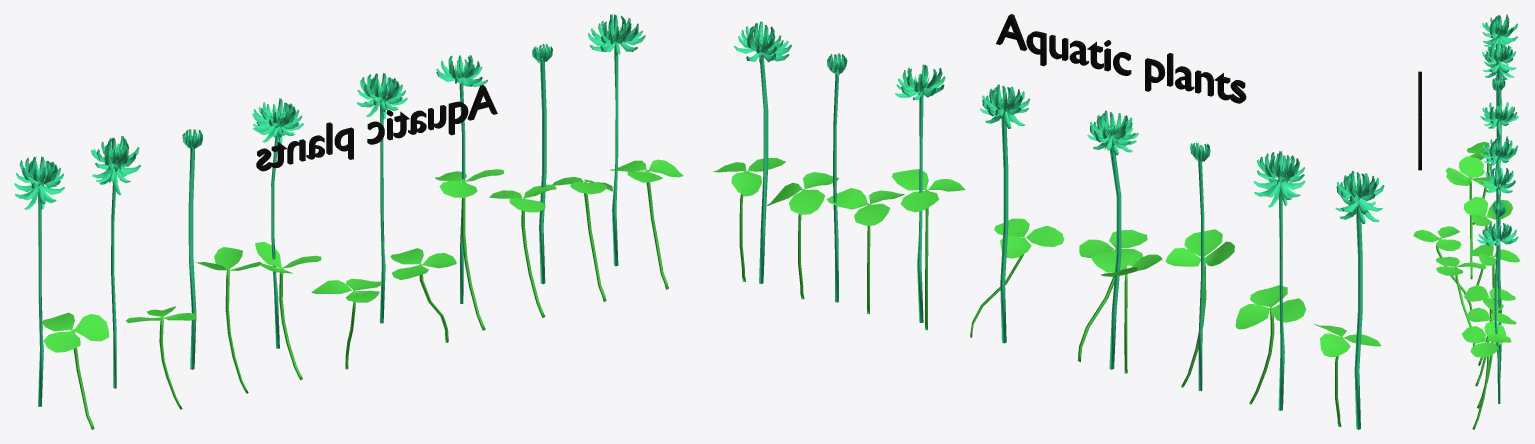
File: Aquatic plants.gltf 3.gltf
The picture shows the model from 3 angles, left to right: view 1: azimuth 30°, elevation 25°; view 2: azimuth 150°, elevation 25°; view 3: azimuth 270°, elevation 25°; orthographic projection. The views are drawn at different scales.
Visible parts, largest first — view 1: flower_A, clover_9, Text; view 2: flower_A, clover_9, Text; view 3: clover_9, flower_A, Text.
Boxes of the visible parts, left/top/right/bottom form: flower_A: left=14, top=14, right=645, bottom=406; clover_9: left=42, top=159, right=683, bottom=429; Text: left=256, top=85, right=497, bottom=171; flower_A: left=734, top=21, right=1384, bottom=429; clover_9: left=713, top=158, right=1381, bottom=426; Text: left=996, top=14, right=1246, bottom=103; clover_9: left=1413, top=141, right=1520, bottom=429; flower_A: left=1477, top=14, right=1518, bottom=403; Text: left=1418, top=71, right=1421, bottom=170.
Bounding box in the file's own units: 0.717 × 0.2999 × 0.1402.
